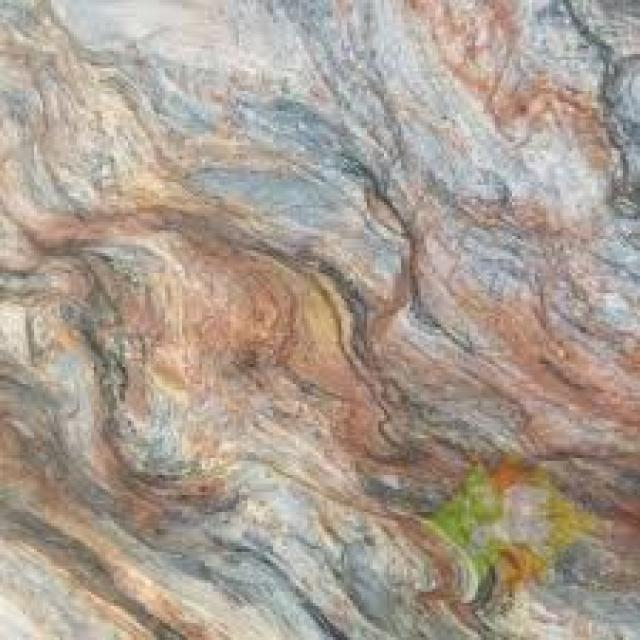Metamorphic: (6, 6, 637, 447)
